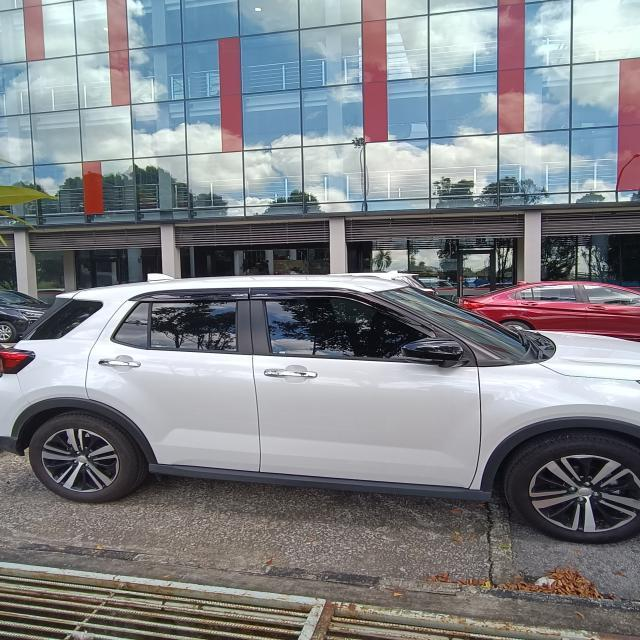PeroduaAtiva: (1, 272, 640, 544)
